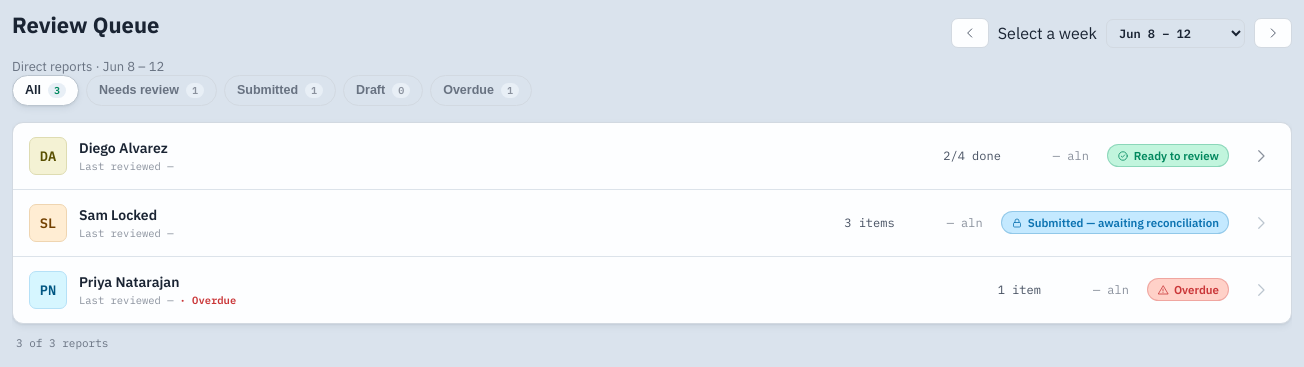
ReviewQueue › applies the needs-review filter chip
What coordinates should you click on to do the following:
click the tab with test id "needs-review-filter"
I would click on:
 (151, 90)
Its box is x1=86 y1=74 x2=217 y2=106.
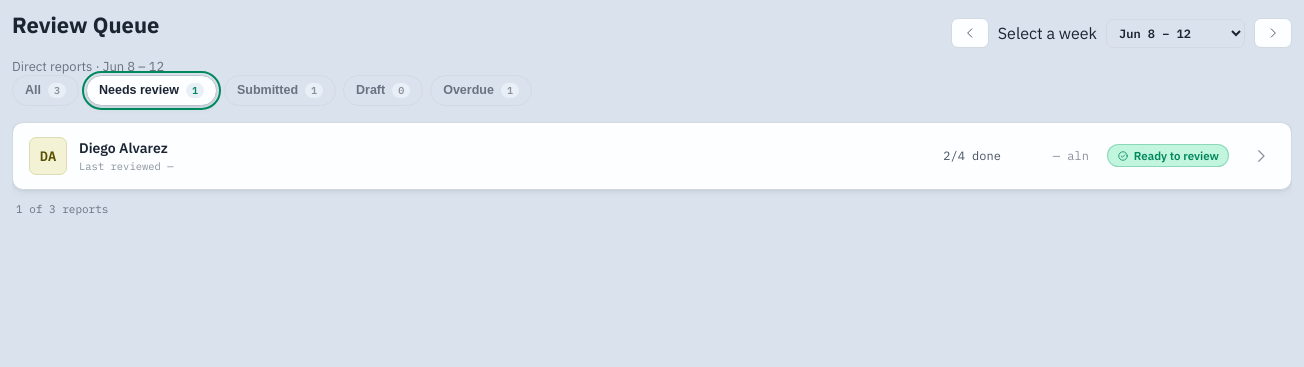
Expected: the number of buttons with test id "queue-row" is 1, x1=29 y1=136 x2=1275 y2=174
Expected: the text "Sam Locked" is gone
